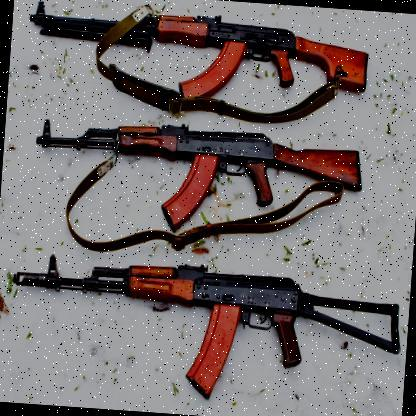rifle: (0, 239, 403, 410), (29, 104, 373, 253), (19, 0, 371, 131)
